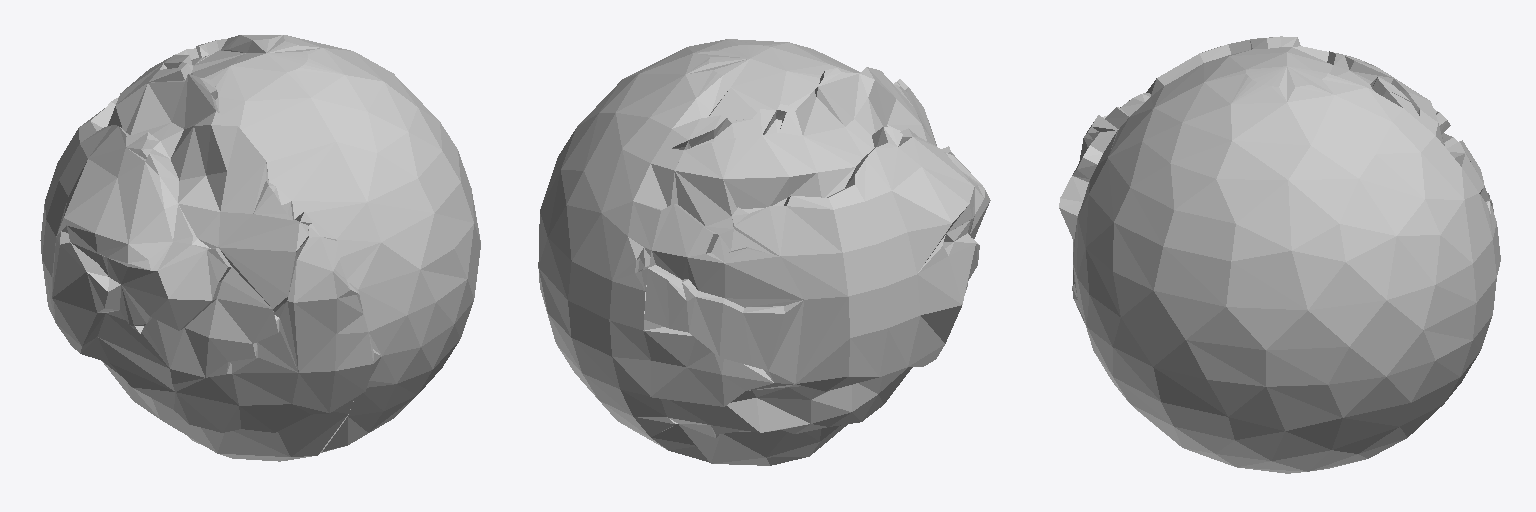
The model's file is sky.obj.
The picture shows the model from 3 angles: view 1: azimuth 30°, elevation 25°; view 2: azimuth 150°, elevation 25°; view 3: azimuth 270°, elevation 25°; orthographic projection.
Parts seen in each view (by area): view 1: Object001_Material__25__background_JPG_002_0; view 2: Object001_Material__25__background_JPG_002_0; view 3: Object001_Material__25__background_JPG_002_0.
Part boxes in pixels (x1,y1,x2,y2): Object001_Material__25__background_JPG_002_0: (40, 35, 480, 461); Object001_Material__25__background_JPG_002_0: (538, 39, 990, 465); Object001_Material__25__background_JPG_002_0: (1059, 36, 1500, 473).
Size of the model in its own units: 21.51 by 20.29 by 20.67.